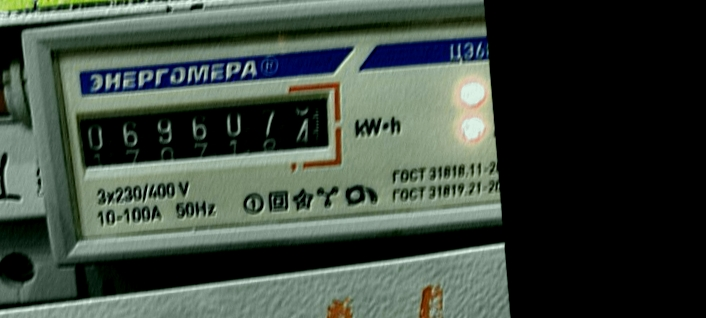0: (225, 108, 246, 139), (87, 123, 107, 152)
4: (295, 117, 313, 147)
6: (190, 113, 212, 143), (122, 119, 143, 148)
7: (261, 107, 281, 138)
9: (157, 117, 176, 146)
screen: (63, 75, 354, 188)
